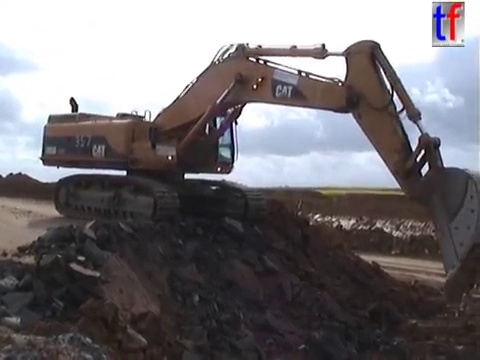excavator: (36, 37, 479, 310)
